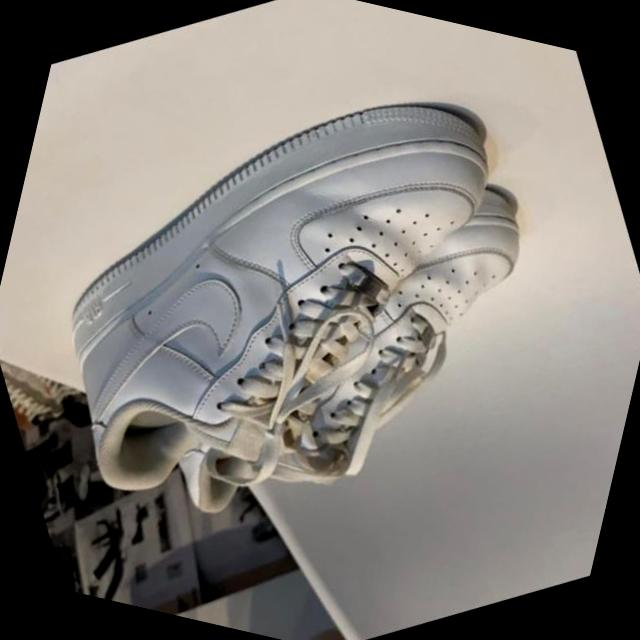nike_original_airforce: (0, 18, 611, 593)
